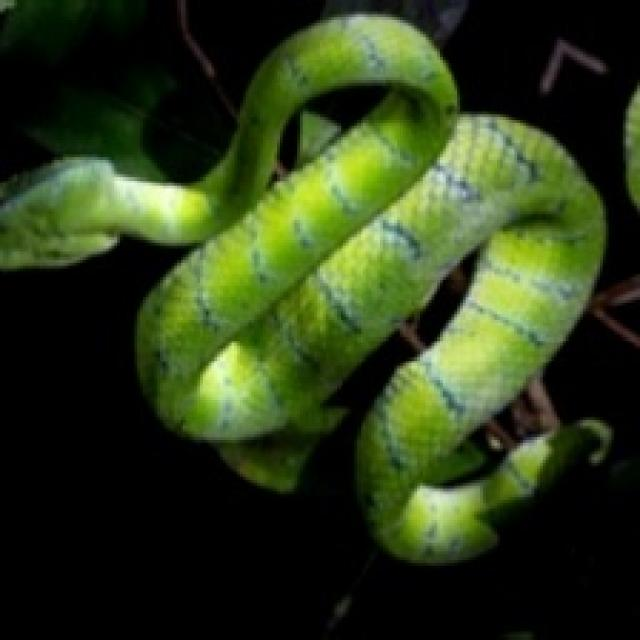north ph temple pitviper: (0, 14, 609, 563), (274, 83, 386, 171)
